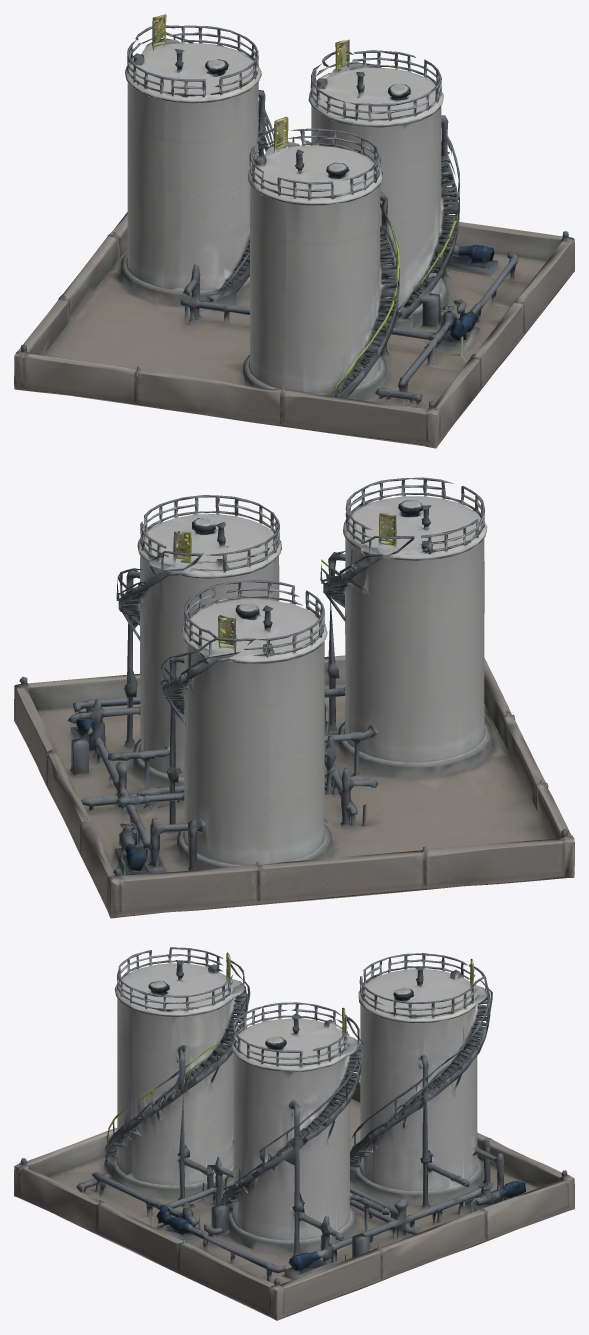
The model's file is fuel_farm.glb.
3 views of the same model, one above another, from view 1: azimuth 30°, elevation 25°; view 2: azimuth 150°, elevation 25°; view 3: azimuth 270°, elevation 25° (orthographic). The views are drawn at different scales.
Parts seen in each view (by area): view 1: tripo_node_5602e212-623d-42ec-89e0-9c0f1fa64bc8; view 2: tripo_node_5602e212-623d-42ec-89e0-9c0f1fa64bc8; view 3: tripo_node_5602e212-623d-42ec-89e0-9c0f1fa64bc8.
Part boxes in pixels (box(x1,y1,x2,y2)): tripo_node_5602e212-623d-42ec-89e0-9c0f1fa64bc8: box(14, 14, 574, 448); tripo_node_5602e212-623d-42ec-89e0-9c0f1fa64bc8: box(14, 477, 574, 918); tripo_node_5602e212-623d-42ec-89e0-9c0f1fa64bc8: box(14, 947, 574, 1320).
Size of the model in its own units: 1.37 by 0.6087 by 1.37.
1 material, 1 textured.
